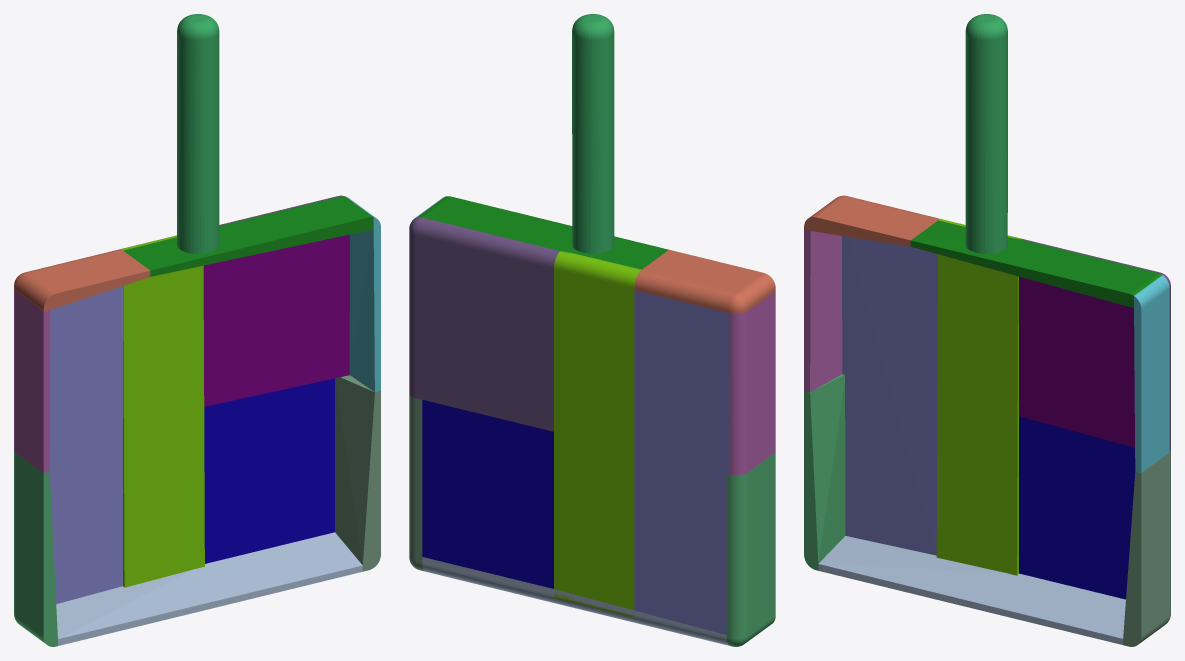
The model's file is real_pan_coacd.obj.
The picture shows the model from 3 angles, left to right: view 1: azimuth 30°, elevation 25°; view 2: azimuth 150°, elevation 25°; view 3: azimuth 330°, elevation 25°; orthographic projection.
Parts seen in each view (by area): view 1: geometry_4, geometry_12, geometry_11, geometry_5, geometry_6, geometry_10, geometry_0, geometry_8, geometry_3, geometry_7, geometry_2, geometry_9; view 2: geometry_12, geometry_4, geometry_1, geometry_5, geometry_10, geometry_3, geometry_7, geometry_9, geometry_8, geometry_6, geometry_0; view 3: geometry_12, geometry_4, geometry_5, geometry_11, geometry_6, geometry_10, geometry_8, geometry_0, geometry_3, geometry_2, geometry_7, geometry_9 (+1 smaller).
Boxes of the visible parts, x1,y1,x2,y2 form: geometry_4: (120,235,204,587); geometry_12: (49,286,122,603); geometry_11: (203,234,349,406); geometry_5: (204,378,334,563); geometry_6: (56,532,362,645); geometry_10: (177,14,219,253); geometry_0: (335,375,380,571); geometry_8: (123,196,373,276); geometry_3: (14,451,57,646); geometry_7: (14,289,50,472); geometry_2: (345,196,380,392); geometry_9: (14,249,150,311); geometry_12: (634,290,729,634); geometry_4: (554,251,641,617); geometry_1: (409,217,559,431); geometry_5: (422,400,553,588); geometry_10: (572,14,614,253); geometry_3: (726,452,775,646); geometry_7: (729,291,775,475); geometry_9: (634,249,775,313); geometry_8: (418,196,668,269); geometry_6: (422,557,729,645); geometry_0: (409,394,424,571); geometry_12: (842,236,937,555); geometry_4: (936,219,1020,575); geometry_5: (1019,416,1135,599); geometry_11: (1019,276,1134,447); geometry_6: (818,536,1125,644); geometry_10: (965,14,1007,253); geometry_8: (910,220,1162,307); geometry_0: (1123,451,1170,646); geometry_3: (804,374,845,570); geometry_2: (1134,275,1169,472); geometry_7: (804,229,842,392); geometry_9: (804,195,941,246).
Bounding box in the file's own units: 0.28 × 0.46 × 0.05.
